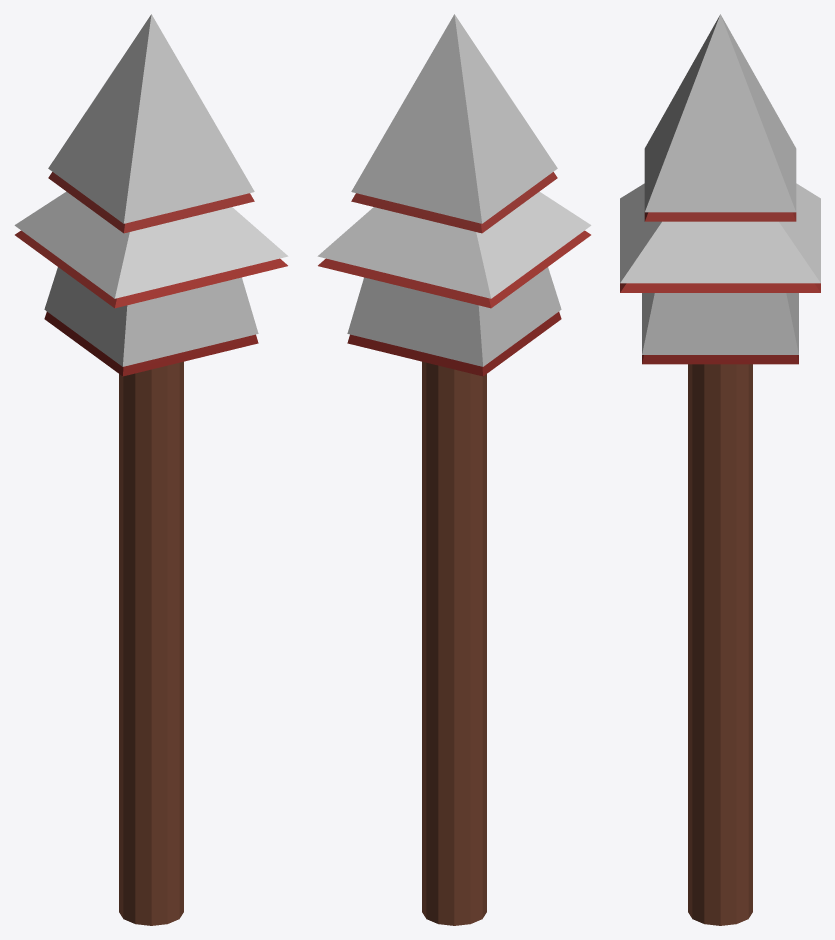
File: Tree_15_winter_gradient_red_vc.fbx
The picture shows the model from 3 angles, left to right: view 1: azimuth 30°, elevation 25°; view 2: azimuth 150°, elevation 25°; view 3: azimuth 270°, elevation 25°; orthographic projection.
Parts seen in each view (by area): view 1: Tree_15_winter_gradient_red_vc; view 2: Tree_15_winter_gradient_red_vc; view 3: Tree_15_winter_gradient_red_vc.
Boxes of the visible parts, bbox=[...] form: Tree_15_winter_gradient_red_vc: bbox=[14, 14, 288, 925]; Tree_15_winter_gradient_red_vc: bbox=[317, 14, 591, 925]; Tree_15_winter_gradient_red_vc: bbox=[620, 14, 820, 925].
Bounding box in the file's own units: 68.73 × 339 × 68.73.
